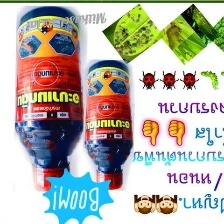insecticide: (11, 3, 85, 196), (81, 58, 134, 192)
